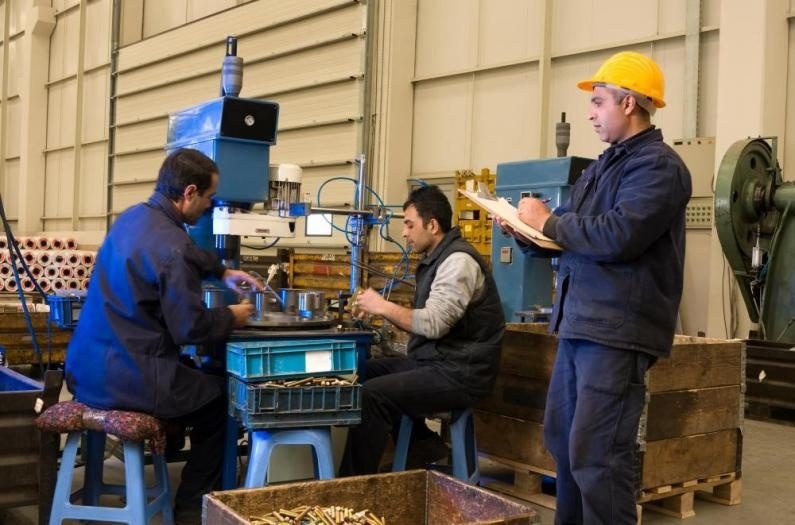none: (153, 147, 223, 227), (400, 183, 453, 253)
yellow: (582, 47, 668, 145)
